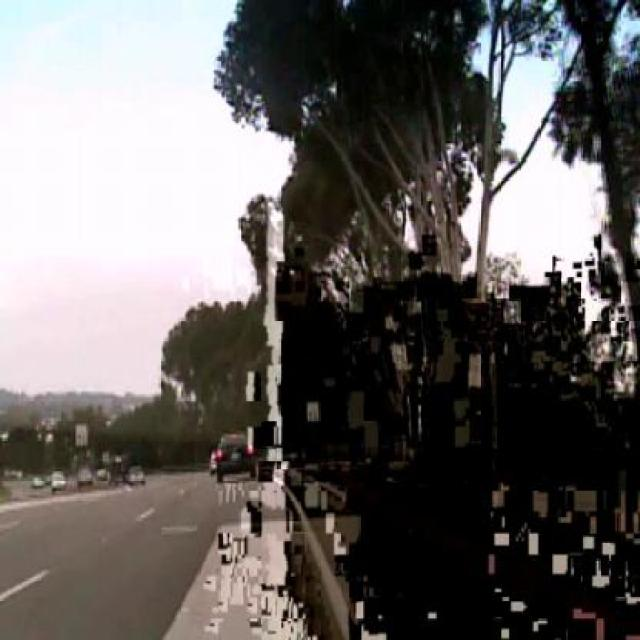speedLimitUrdbl: (74, 425, 87, 446)
